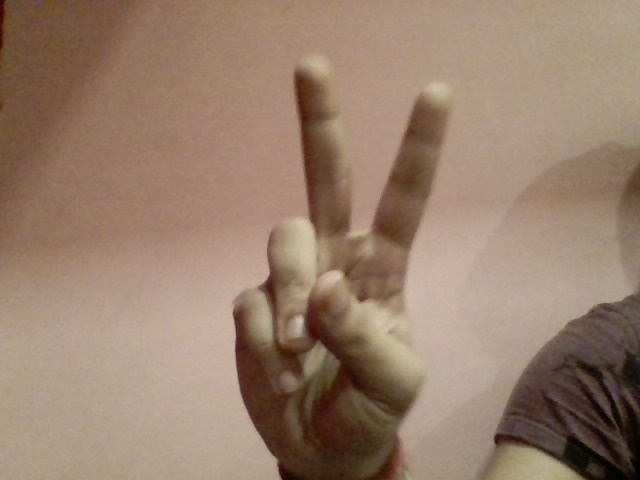v: (224, 46, 462, 472)
